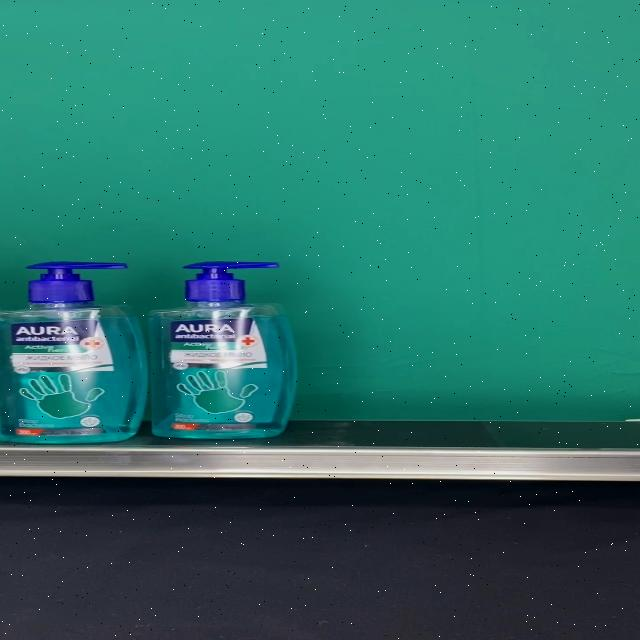Bottle: (0, 261, 148, 444), (150, 262, 296, 438)
Cap: (29, 262, 127, 302), (185, 262, 280, 302)
